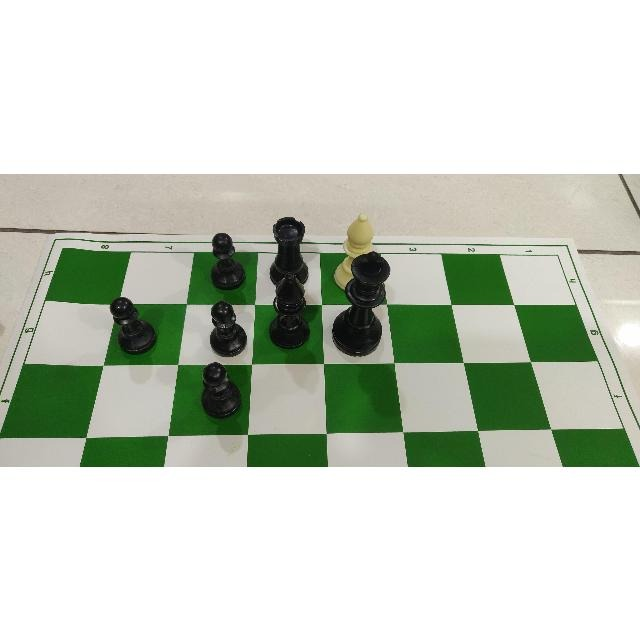black-bishop: (267, 270, 311, 350), (269, 269, 311, 348)
black-king: (331, 249, 391, 358), (330, 250, 391, 356)
black-pawn: (106, 293, 160, 355), (196, 356, 244, 425), (196, 357, 242, 424), (202, 297, 249, 359), (108, 297, 158, 355), (207, 227, 250, 291), (204, 297, 248, 359), (209, 229, 249, 290)
black-rook: (265, 210, 313, 288), (265, 212, 312, 288)
white-bishop: (330, 209, 389, 294), (331, 208, 389, 293)
